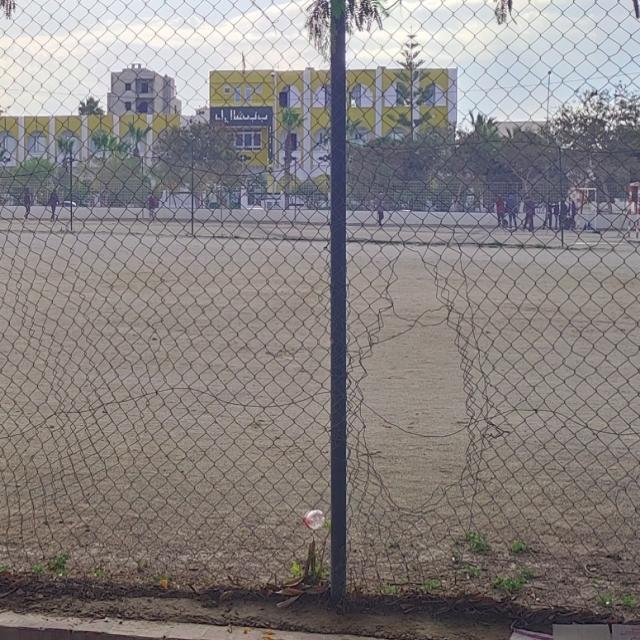fence line: (360, 252, 487, 518)
